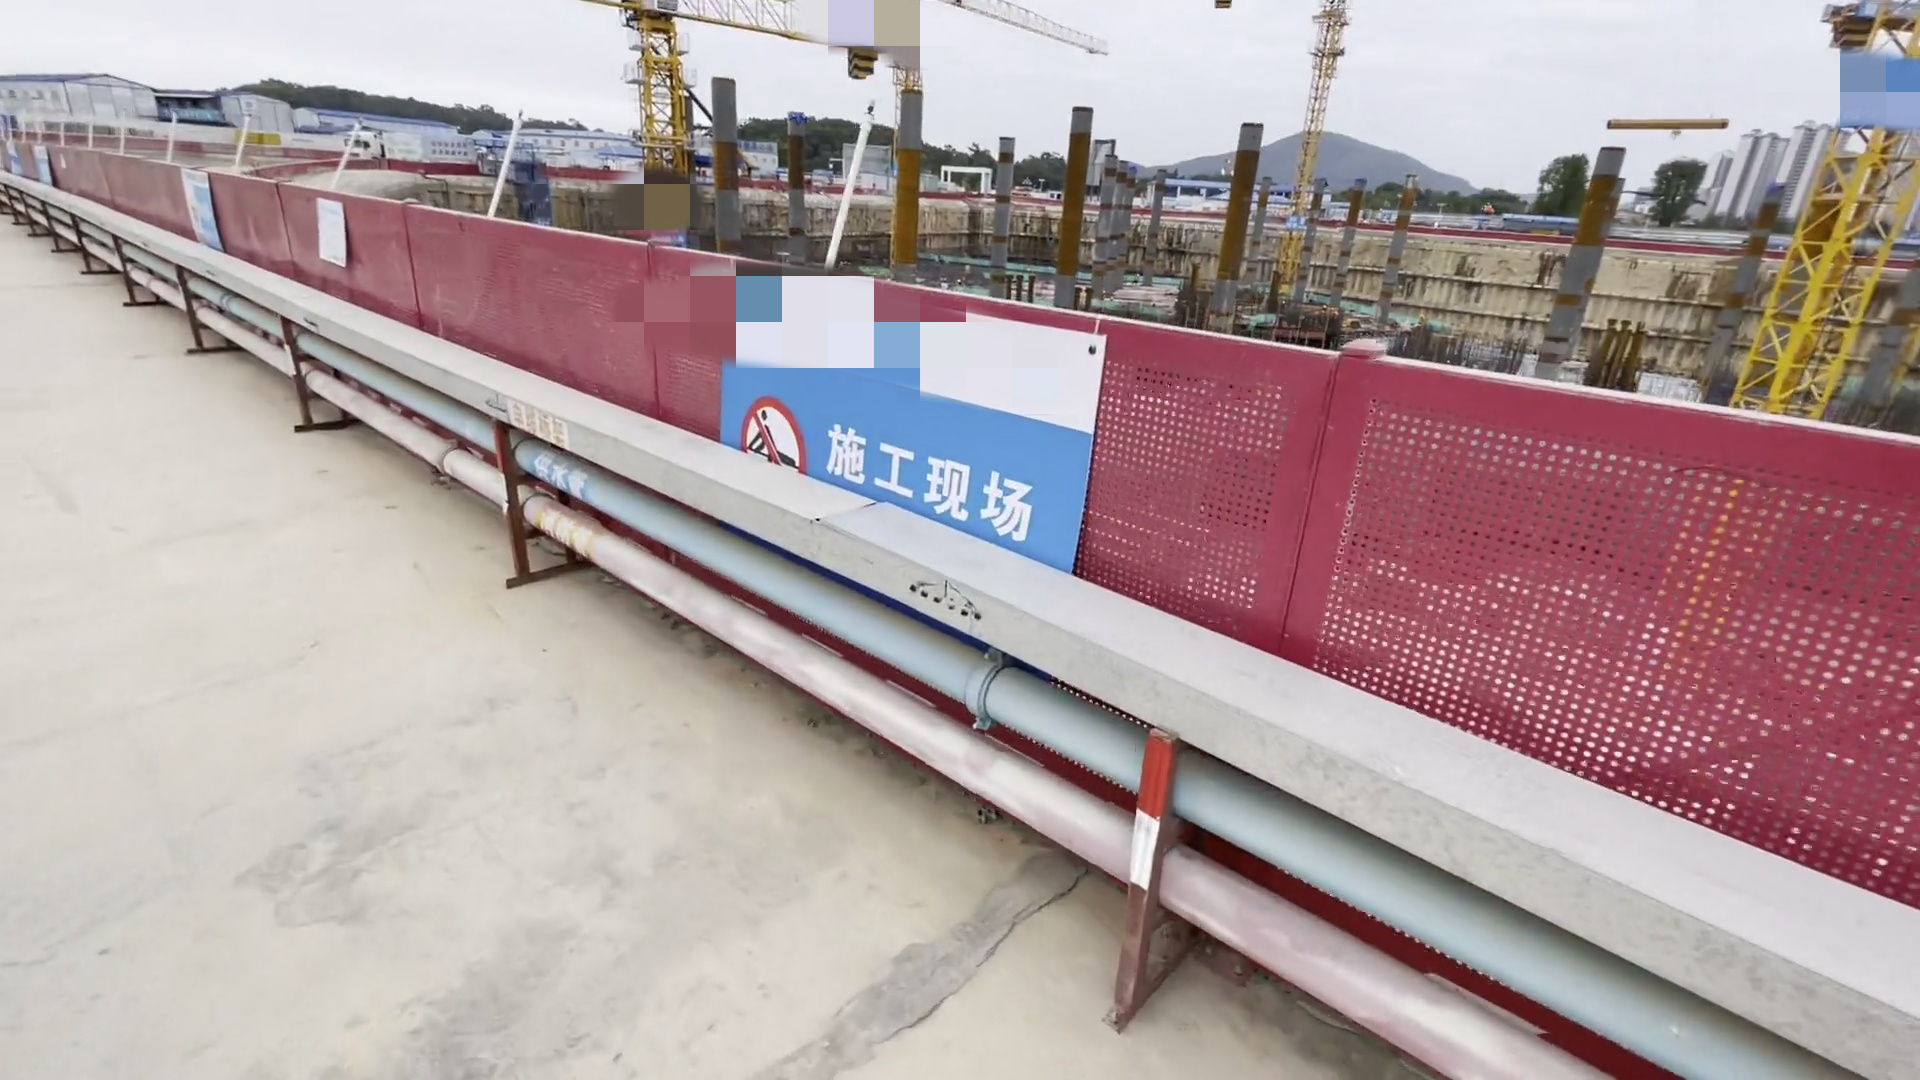fence: (1, 117, 1849, 914)
slogan: (719, 287, 1095, 535), (173, 166, 236, 256)
